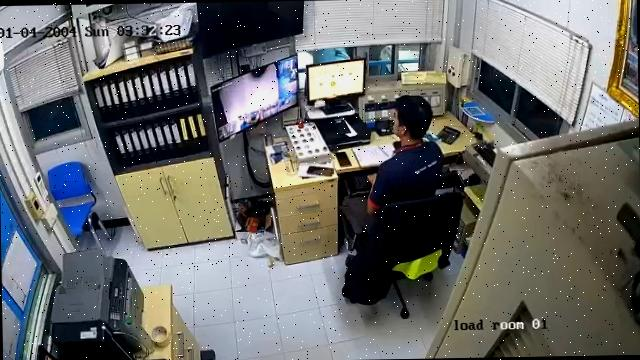Head: (393, 97, 432, 139)
People: (342, 97, 443, 231)
Phone: (336, 151, 351, 166), (307, 167, 333, 175)
